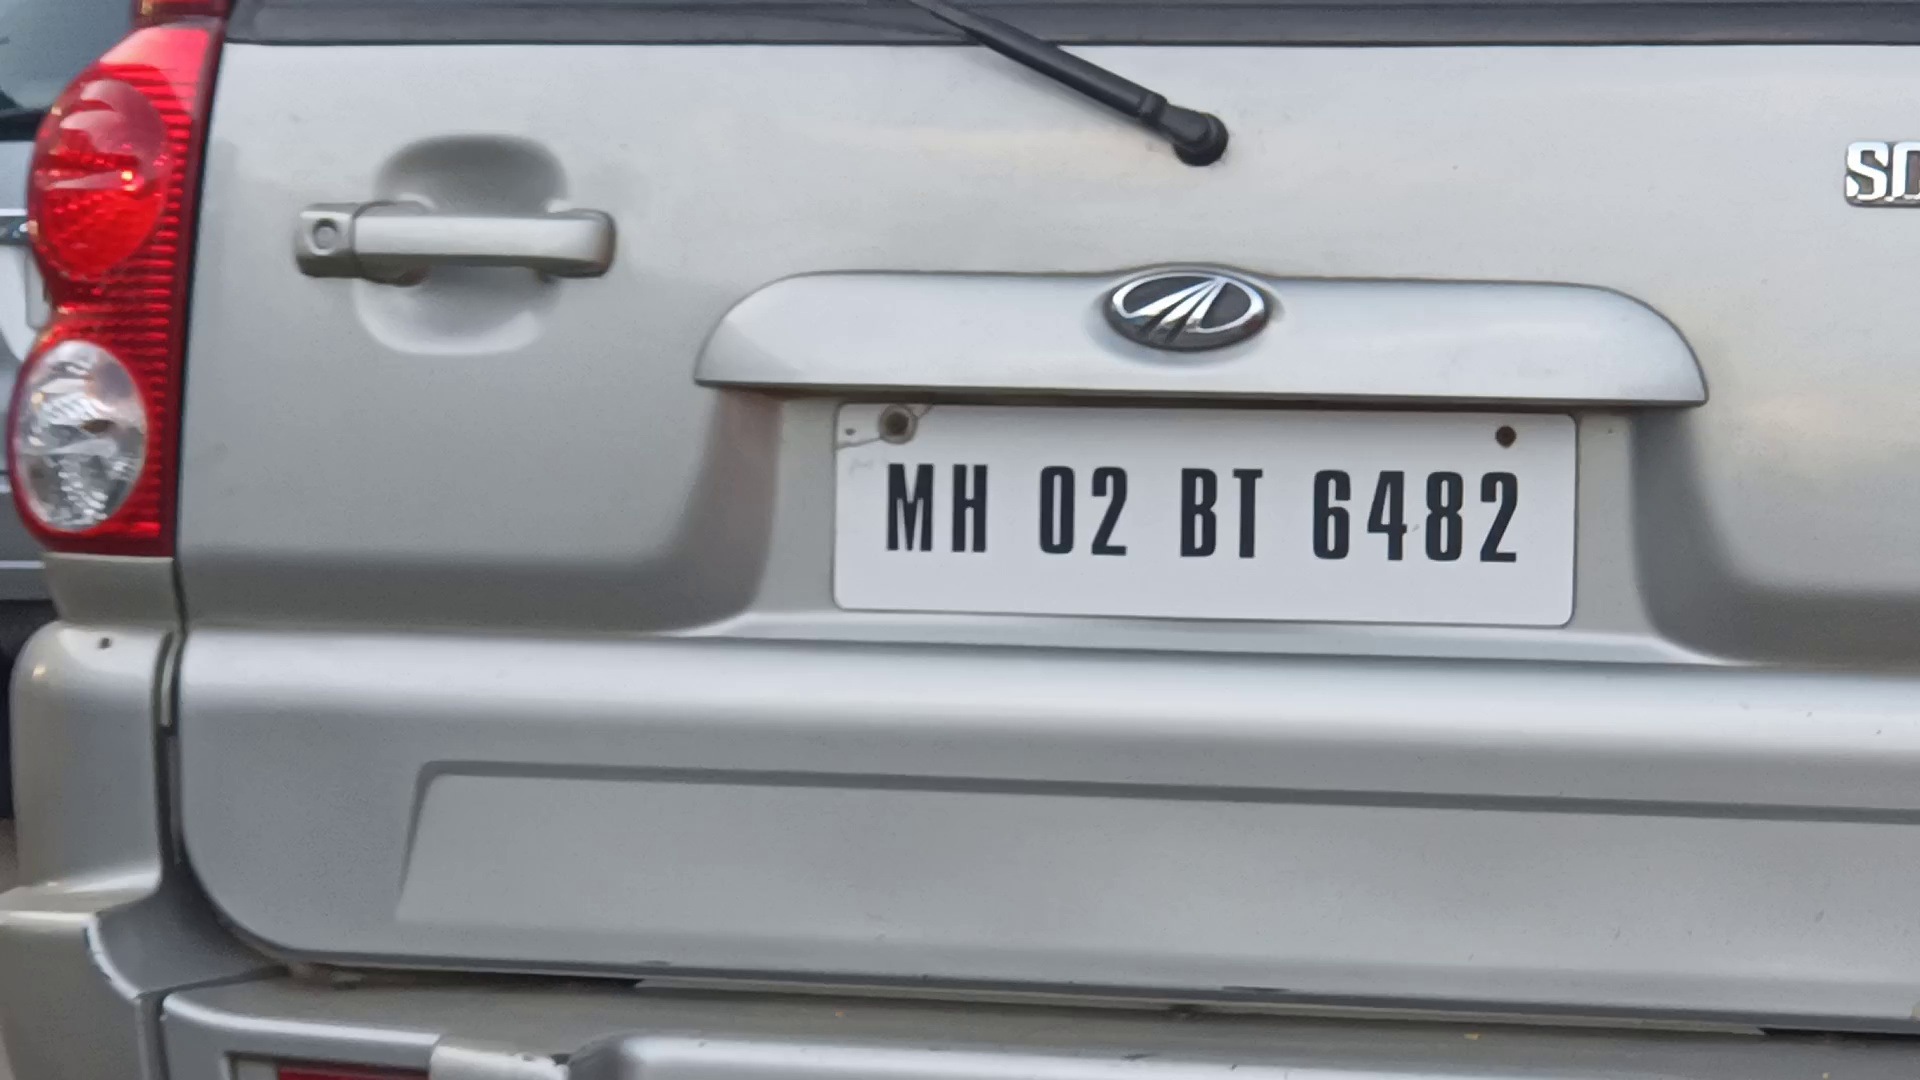MH02BT6482: (829, 395, 1580, 627)
